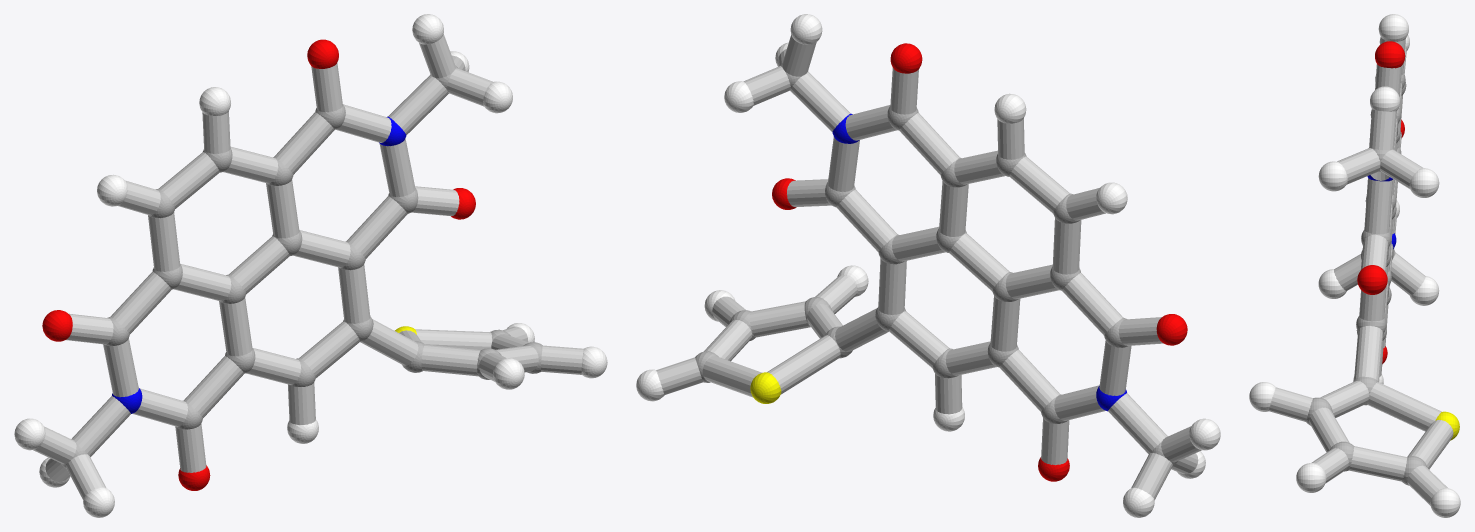
Rendered from Dimethyl_Naphthalene_Dicarboximide_Phi_25_Theta_80_Thiophene.glb.
3 views of the same model, side by side, from view 1: azimuth 30°, elevation 25°; view 2: azimuth 150°, elevation 25°; view 3: azimuth 270°, elevation 25° (orthographic). The views are drawn at different scales.
Visible parts, largest first — view 1: grp14119, grp7241, grp1, grp12309, grp11585; view 2: grp14119, grp7241, grp1, grp12309, grp13757, grp11585; view 3: grp14119, grp7241, grp1, grp12309, grp13757.
Part boxes in pixels (left/top/right/bottom): grp14119: left=33, top=34, right=583, bottom=499; grp7241: left=14, top=14, right=607, bottom=517; grp1: left=61, top=65, right=542, bottom=468; grp12309: left=42, top=39, right=475, bottom=490; grp11585: left=112, top=116, right=406, bottom=413; grp14119: left=656, top=35, right=1201, bottom=499; grp7241: left=636, top=14, right=1220, bottom=517; grp1: left=695, top=63, right=1177, bottom=465; grp12309: left=772, top=43, right=1187, bottom=481; grp13757: left=750, top=372, right=781, bottom=403; grp11585: left=832, top=113, right=1126, bottom=411; grp14119: left=1269, top=37, right=1453, bottom=505; grp7241: left=1249, top=14, right=1460, bottom=517; grp1: left=1306, top=73, right=1427, bottom=485; grp12309: left=1357, top=41, right=1405, bottom=364; grp13757: left=1435, top=411, right=1459, bottom=440.
Size of the model in its own units: 11.95 by 8.52 by 4.18.
